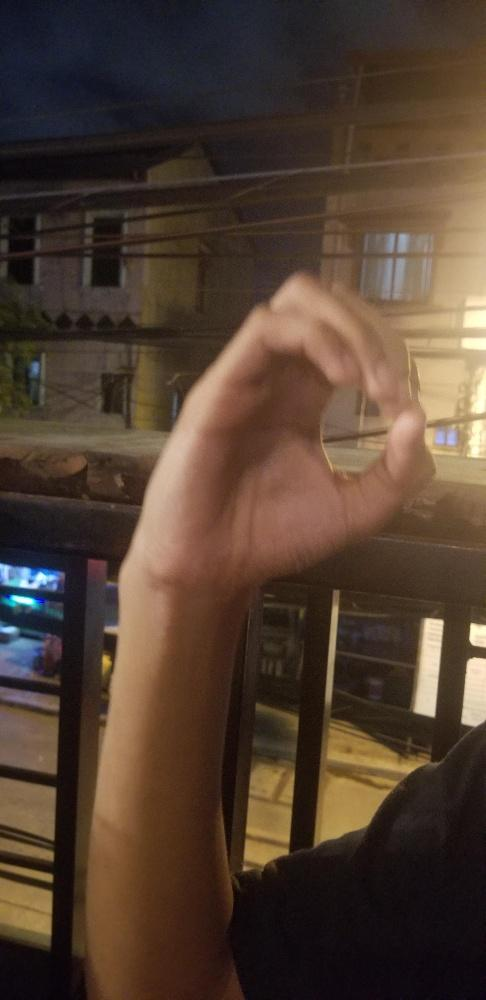o: (120, 272, 438, 588)
